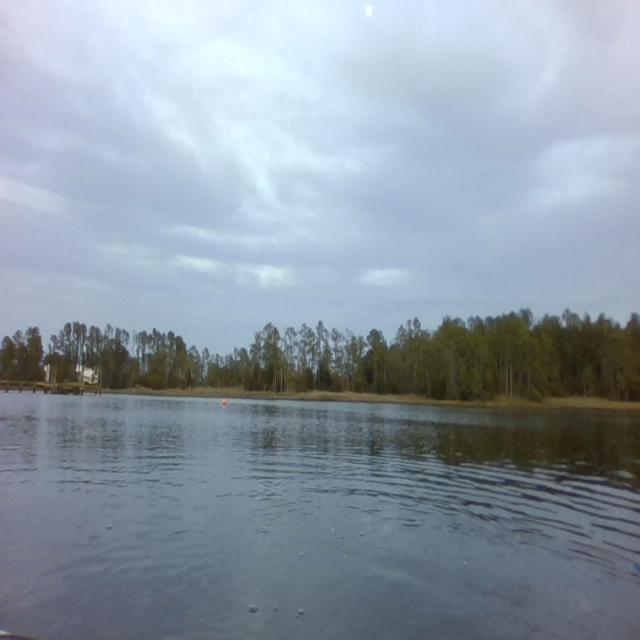Buoy: (221, 394, 228, 410)
